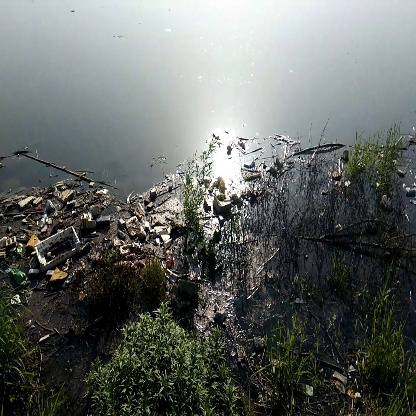branch: (21, 150, 98, 182)
plastic-garbage: (31, 228, 85, 270)
